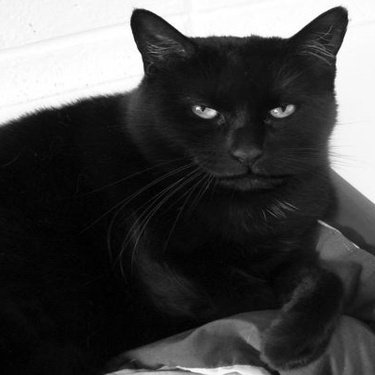cat: (2, 8, 349, 373)
